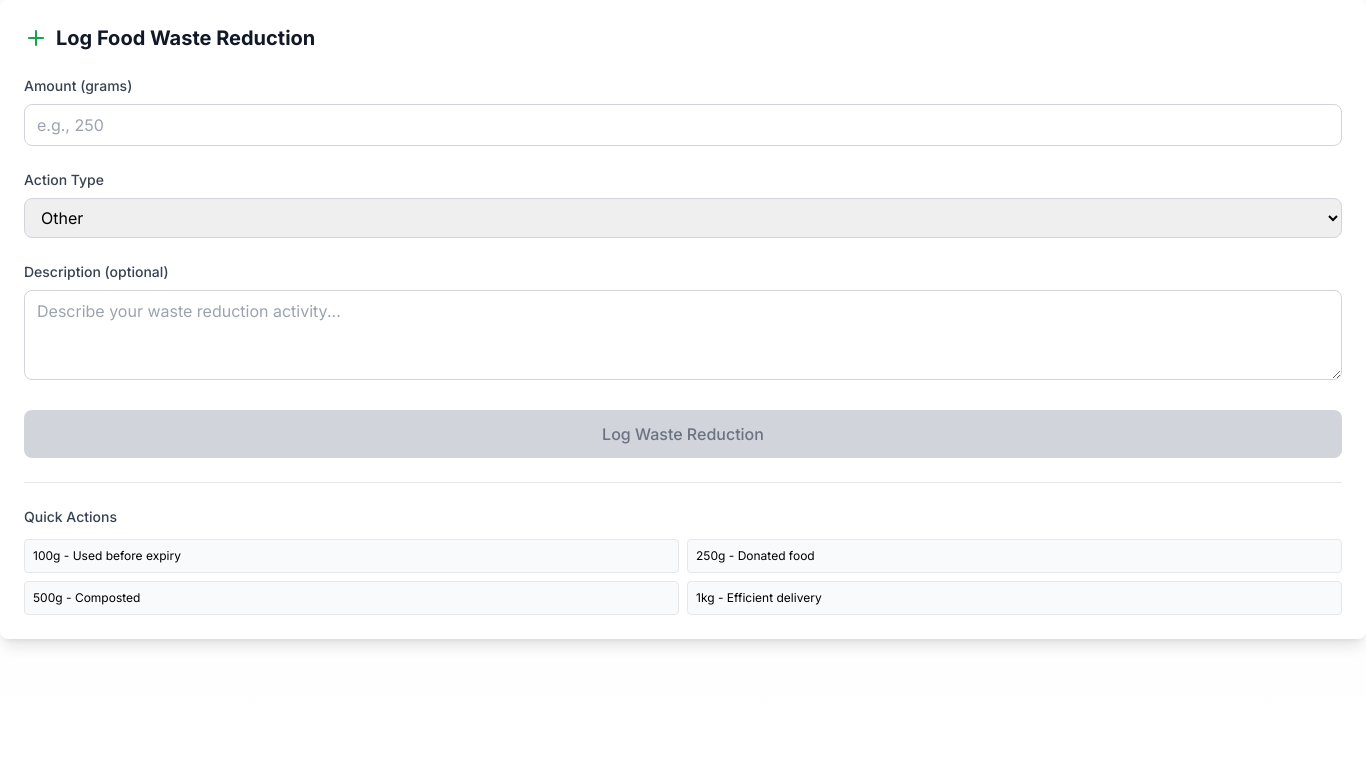
Test case: WasteLogger › should show success message after successful submission
Type "250" into the number field labelled "Amount (grams)" at [683, 125], box [24, 104, 1342, 146]
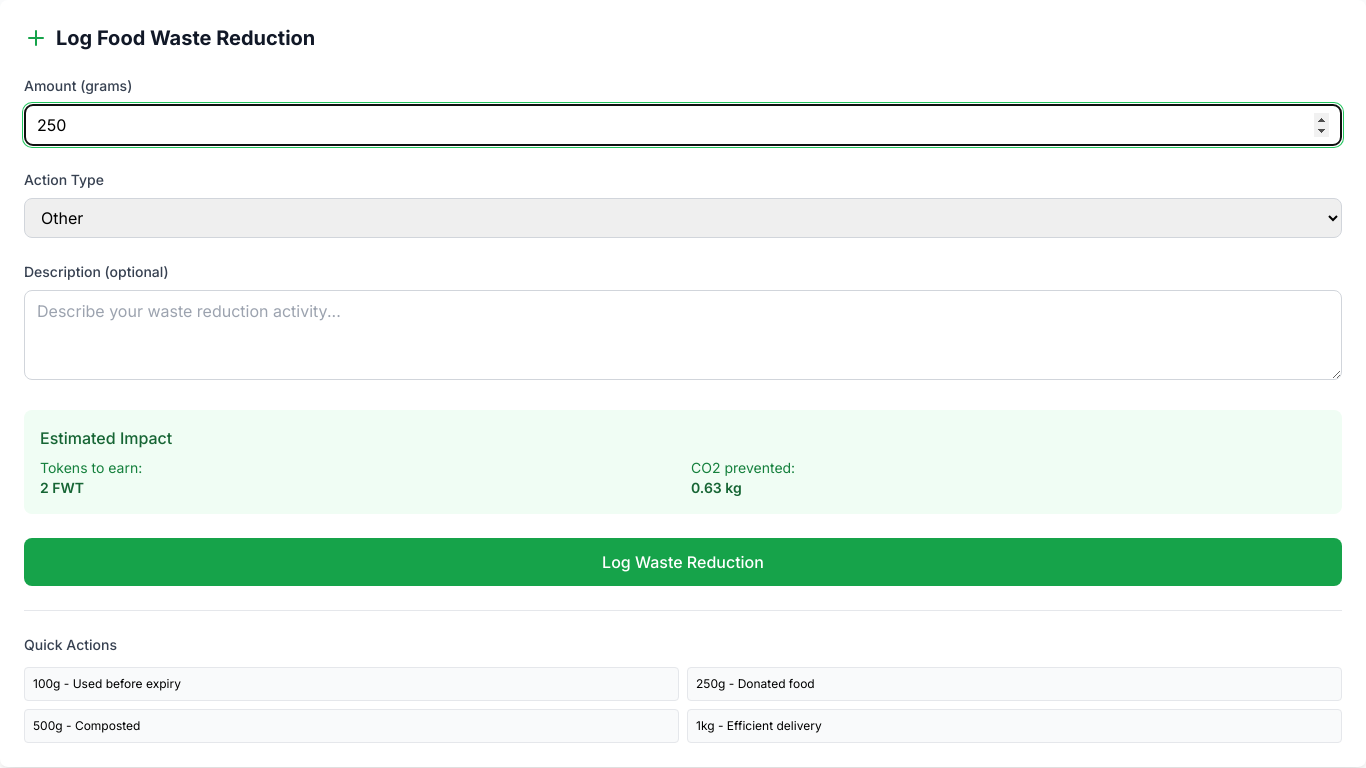
Click the button "Log Waste Reduction" at [683, 562], box [24, 538, 1342, 586]
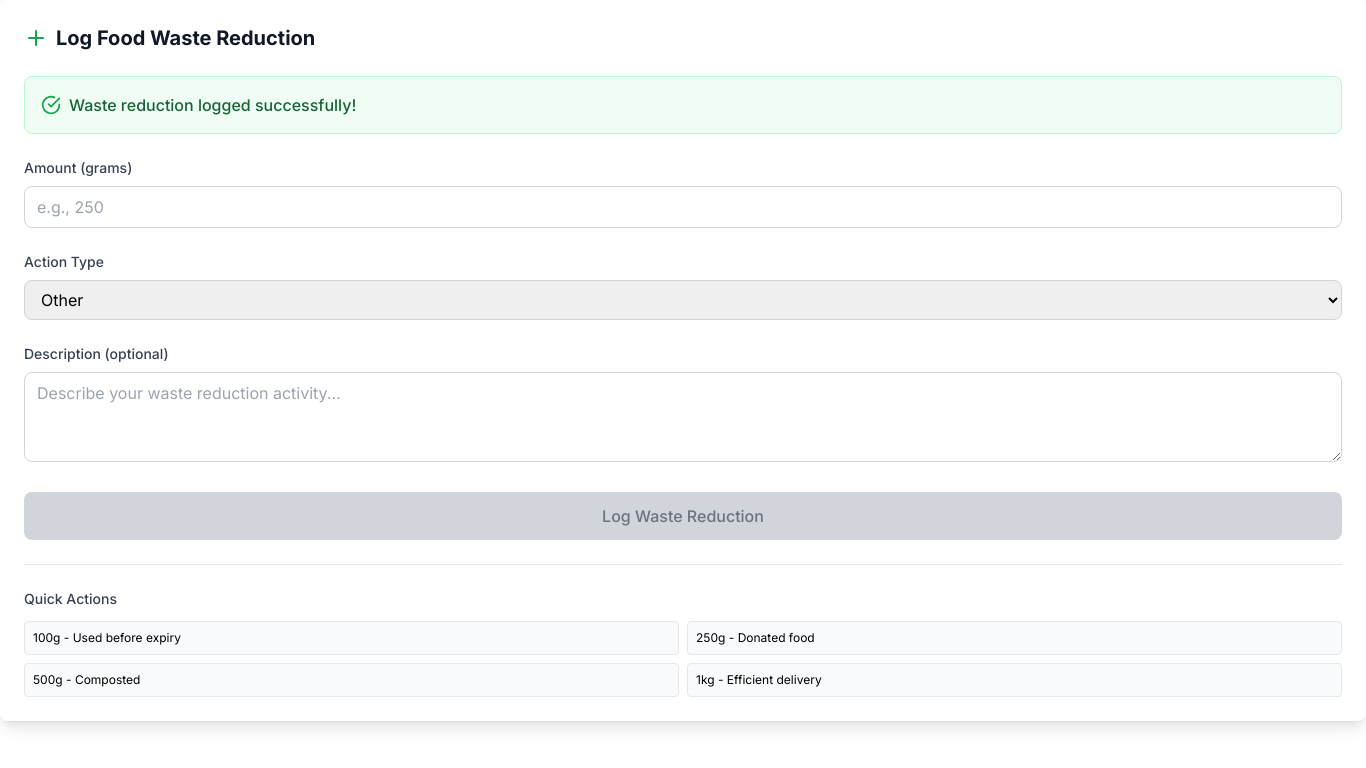
Expected: the text "Waste reduction logged successfully!" is shown, [69, 93, 356, 117]
